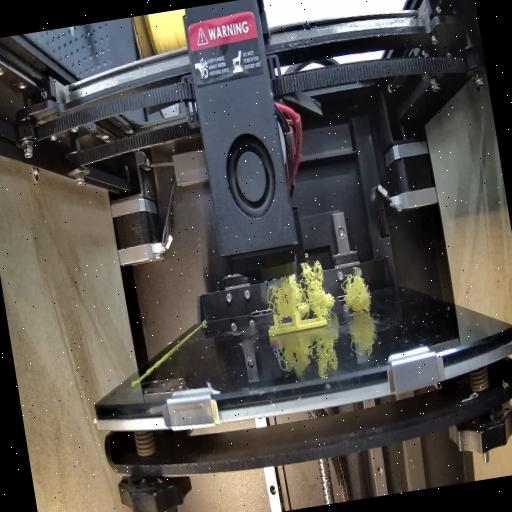spaghetti: (264, 260, 337, 322), (338, 262, 380, 326)
